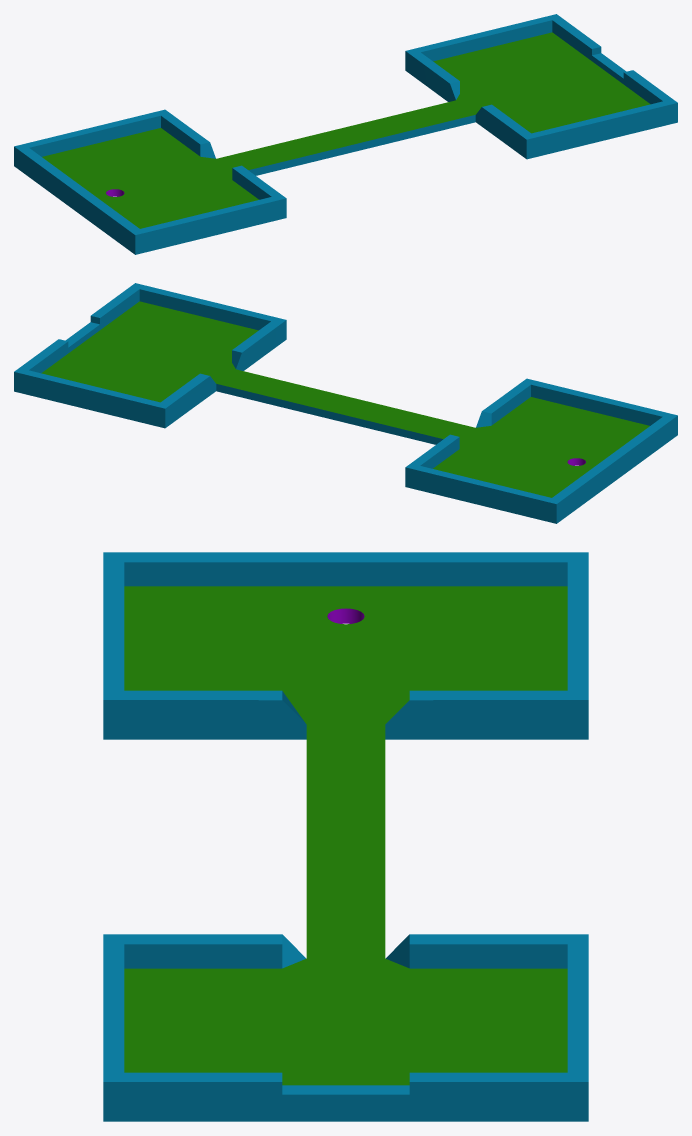
The model's file is Level2.fbx.
3 views of the same model, one above another, from view 1: azimuth 30°, elevation 25°; view 2: azimuth 150°, elevation 25°; view 3: azimuth 270°, elevation 25° (orthographic). The views are drawn at different scales.
Parts seen in each view (by area): view 1: pCube5; view 2: pCube5; view 3: pCube5.
Part boxes in pixels (x1,y1,x2,y2): pCube5: (14, 14, 677, 254); pCube5: (14, 283, 677, 523); pCube5: (103, 552, 588, 1121).
Bounding box in the file's own units: 12 × 0.417 × 4.65.
Materials: 1 (1 with a texture image).
